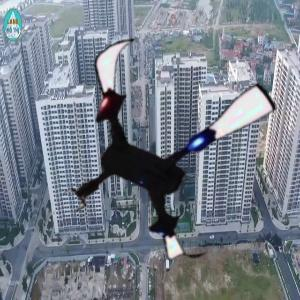drone: (49, 25, 289, 265)
